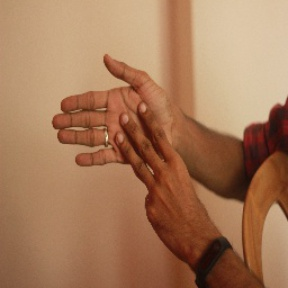M: (49, 50, 198, 219)
